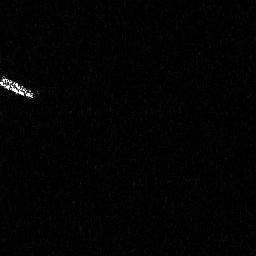ship: (1, 75, 40, 101)
